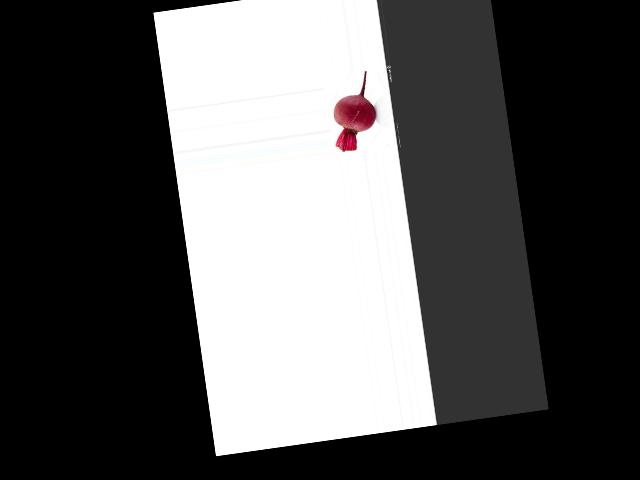beet: (326, 71, 380, 153)
